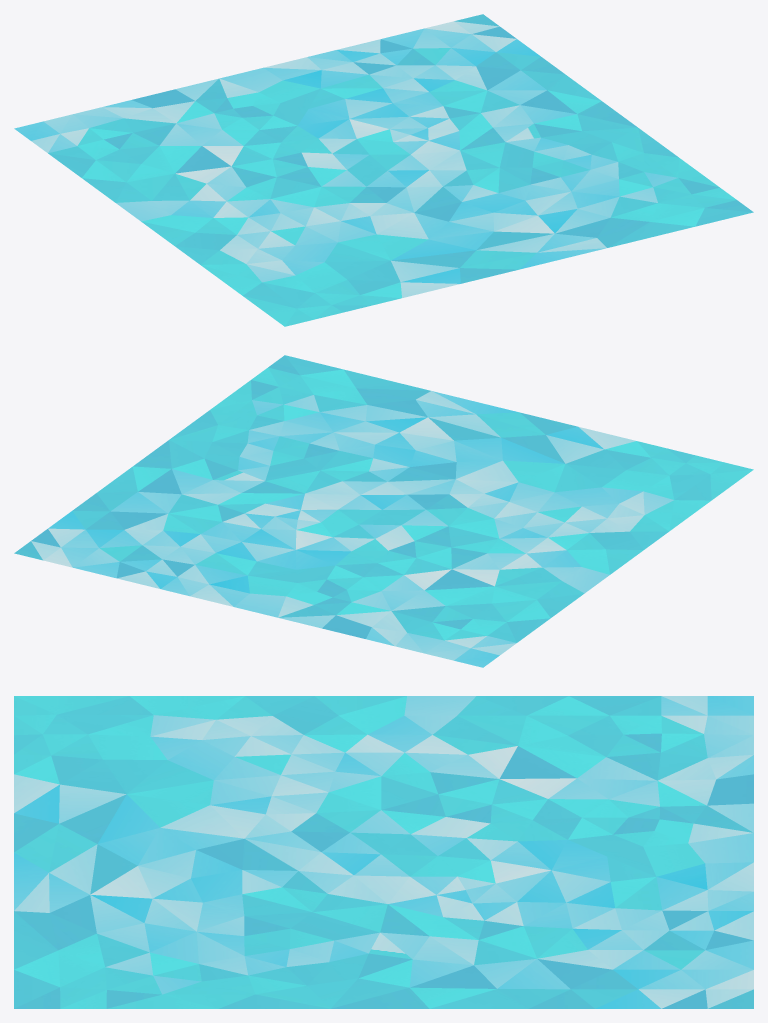
Rendered from GL-Water-part-01.fbx.
3 renders of one model, top to bottom at view 1: azimuth 30°, elevation 25°; view 2: azimuth 150°, elevation 25°; view 3: azimuth 270°, elevation 25°, orthographic. The views are drawn at different scales.
Parts seen in each view (by area): view 1: GL-Water-part-01; view 2: GL-Water-part-01; view 3: GL-Water-part-01.
Boxes of the visible parts, left/top/right/bottom form: GL-Water-part-01: left=14, top=14, right=753, bottom=326; GL-Water-part-01: left=14, top=355, right=753, bottom=667; GL-Water-part-01: left=14, top=696, right=753, bottom=1008.
Size of the model in its own units: 12 by 0 by 12.
